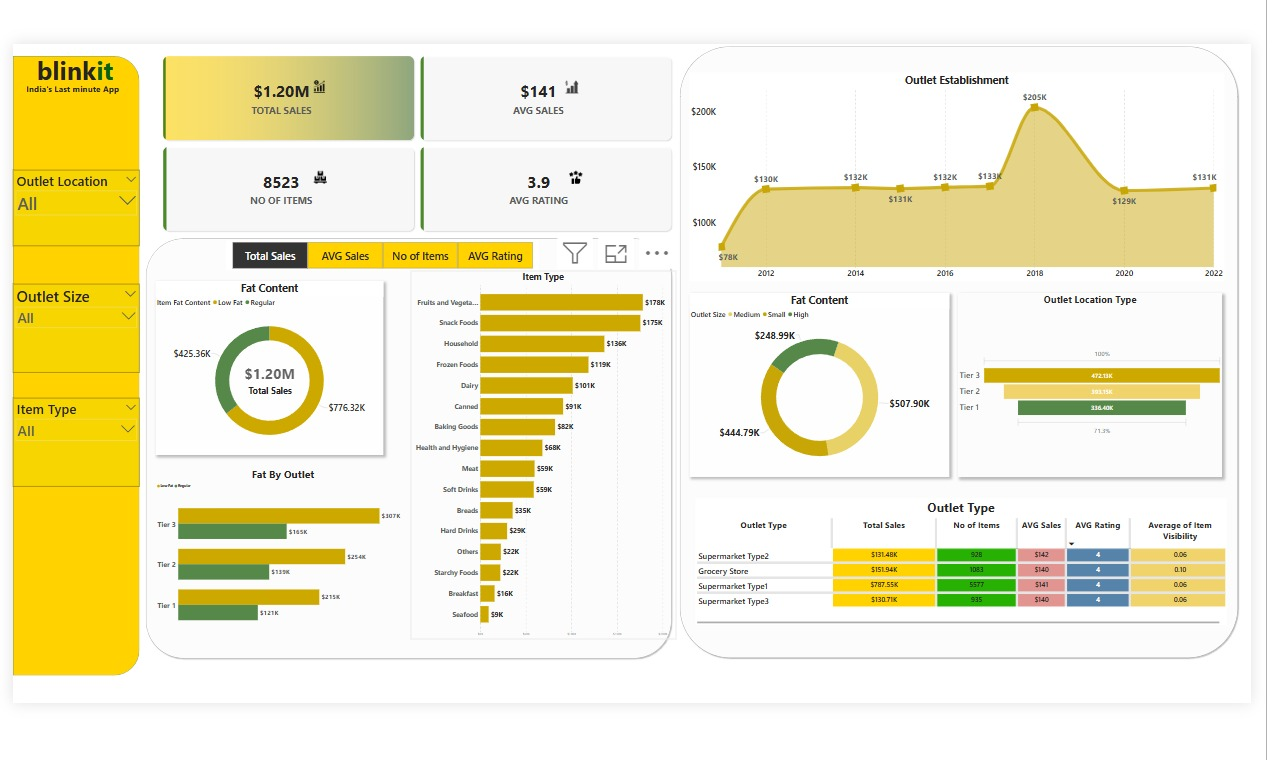

The dashboard page shown, as its layout file describes it:
{"tool":"powerbi","page":{"name":"Page 1","canvas":[4700,2500],"ordinal":0},"visuals":[{"type":"shape","box":[0,48,480,2352],"z":0},{"type":"textbox","box":[69.7,29.3,333.6,154],"z":1000},{"type":"textbox","box":[44,143,421.6,77],"z":2000},{"type":"cardVisual","fields":{"Data":["BlinkIT Grocery Data.Total Sales","BlinkIT Grocery Data.AVG Sales","BlinkIT Grocery Data.No of Items","BlinkIT Grocery Data.AVG Rating"]},"box":[552.3,29.3,1965,699],"z":3000},{"type":"shape","box":[493.7,728.3,2013.8,1613],"z":4000},{"type":"donutChart","title":"Fat Content","fields":{"Y":["BlinkIT Grocery Data.Total Sales"],"Category":["BlinkIT Grocery Data.Item Fat Content"]},"box":[542.6,899.4,865.2,659.9],"z":5000},{"type":"slicer","fields":{"Values":["Metrics.Metrics"]},"box":[811.4,747.9,1187.8,112.4],"z":6000},{"type":"cardVisual","fields":{"Data":["BlinkIT Grocery Data.Total Sales"]},"box":[850.5,1197.6,254.2,141.8],"z":7000},{"type":"clusteredBarChart","title":" Fat By Outlet","fields":{"Y":["BlinkIT Grocery Data.Total Sales"],"Category":["BlinkIT Grocery Data.Outlet Location Type"],"Series":["BlinkIT Grocery Data.Item Fat Content"]},"box":[542.6,1603.3,967.8,655],"z":8000},{"type":"barChart","title":"Item Type","fields":{"Y":["BlinkIT Grocery Data.Total Sales"],"Category":["BlinkIT Grocery Data.Item Type"]},"box":[1510.4,860.3,1006.9,1398],"z":9000},{"type":"shape","box":[2520,0,2136.7,2340],"z":10000},{"type":"lineChart","title":"Outlet Establishment","fields":{"Y":["BlinkIT Grocery Data.Total Sales"],"Category":["BlinkIT Grocery Data.Outlet Establishment Year"]},"box":[2570,106.7,2030,793.3],"z":11000},{"type":"donutChart","title":"Fat Content","fields":{"Y":["BlinkIT Grocery Data.Total Sales"],"Category":["BlinkIT Grocery Data.Outlet Size"]},"box":[2570,946.7,986.7,696.7],"z":12000},{"type":"funnel","title":"Outlet Location Type","fields":{"Y":["Sum(BlinkIT Grocery Data.Sales)"],"Category":["BlinkIT Grocery Data.Outlet Location Type"]},"box":[3586.7,946.7,1003.3,700],"z":13000},{"type":"pivotTable","title":"Outlet Type","fields":{"Rows":["BlinkIT Grocery Data.Outlet Type"],"Values":["BlinkIT Grocery Data.Total Sales","BlinkIT Grocery Data.No of Items","BlinkIT Grocery Data.AVG Sales","BlinkIT Grocery Data.AVG Rating","Avg(BlinkIT Grocery Data.Item Visibility)"]},"box":[2592,1728,2016,480],"z":14000},{"type":"slicer","fields":{"Values":["BlinkIT Grocery Data.Outlet Location Type"]},"box":[0,480,480,288],"z":15000},{"type":"slicer","fields":{"Values":["BlinkIT Grocery Data.Outlet Size"]},"box":[0,912,480,336],"z":16000},{"type":"slicer","fields":{"Values":["BlinkIT Grocery Data.Item Type"]},"box":[0,1344,480,336],"z":17000}]}

Visuals, with their boxes on the page's 4700x2500 design canvas (x1, y1, x2, y2). These are canvas units, not pixel positions in the 1279x760 screenshot, which may show the page scaled, cropped or inside an application window:
shape: {"x1": 0, "y1": 48, "x2": 480, "y2": 2400}
textbox: {"x1": 70, "y1": 29, "x2": 403, "y2": 183}
textbox: {"x1": 44, "y1": 143, "x2": 466, "y2": 220}
cardVisual - BlinkIT Grocery Data.Total Sales x BlinkIT Grocery Data.AVG Sales: {"x1": 552, "y1": 29, "x2": 2517, "y2": 728}
shape: {"x1": 494, "y1": 728, "x2": 2508, "y2": 2341}
"Fat Content" donutChart: {"x1": 543, "y1": 899, "x2": 1408, "y2": 1559}
slicer - Metrics.Metrics: {"x1": 811, "y1": 748, "x2": 1999, "y2": 860}
cardVisual - BlinkIT Grocery Data.Total Sales: {"x1": 850, "y1": 1198, "x2": 1105, "y2": 1339}
" Fat By Outlet" clusteredBarChart: {"x1": 543, "y1": 1603, "x2": 1510, "y2": 2258}
"Item Type" barChart: {"x1": 1510, "y1": 860, "x2": 2517, "y2": 2258}
shape: {"x1": 2520, "y1": 0, "x2": 4657, "y2": 2340}
"Outlet Establishment" lineChart: {"x1": 2570, "y1": 107, "x2": 4600, "y2": 900}
"Fat Content" donutChart: {"x1": 2570, "y1": 947, "x2": 3557, "y2": 1643}
"Outlet Location Type" funnel: {"x1": 3587, "y1": 947, "x2": 4590, "y2": 1647}
"Outlet Type" pivotTable: {"x1": 2592, "y1": 1728, "x2": 4608, "y2": 2208}
slicer - BlinkIT Grocery Data.Outlet Location Type: {"x1": 0, "y1": 480, "x2": 480, "y2": 768}
slicer - BlinkIT Grocery Data.Outlet Size: {"x1": 0, "y1": 912, "x2": 480, "y2": 1248}
slicer - BlinkIT Grocery Data.Item Type: {"x1": 0, "y1": 1344, "x2": 480, "y2": 1680}
